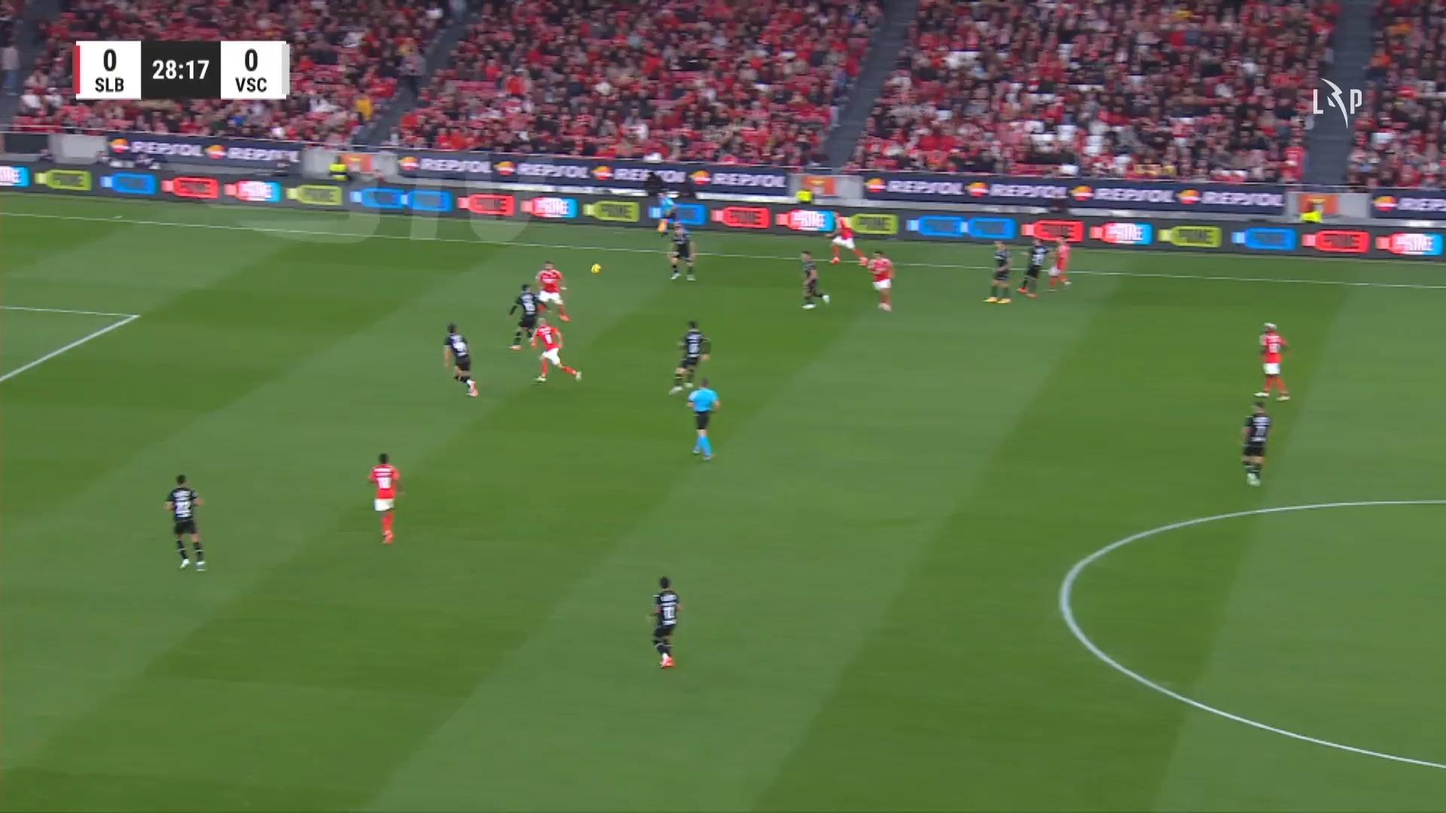ball: (590, 263, 601, 274)
player: (163, 473, 206, 571), (528, 316, 581, 382), (646, 574, 682, 668), (368, 452, 404, 544), (669, 319, 711, 395), (1252, 321, 1291, 400), (1239, 400, 1271, 486), (442, 322, 478, 397), (508, 282, 546, 350), (825, 210, 867, 265), (534, 260, 571, 322), (863, 249, 895, 311), (665, 220, 697, 282), (983, 239, 1012, 303), (1017, 236, 1047, 297), (799, 250, 829, 309), (1047, 233, 1072, 289)
referee: (685, 376, 721, 460), (655, 189, 678, 235)
